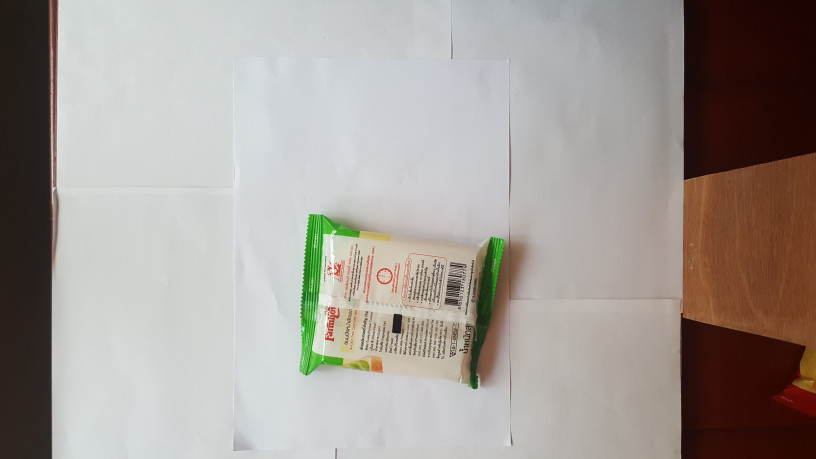farmhouse-bread-pandan: (290, 202, 507, 395)
